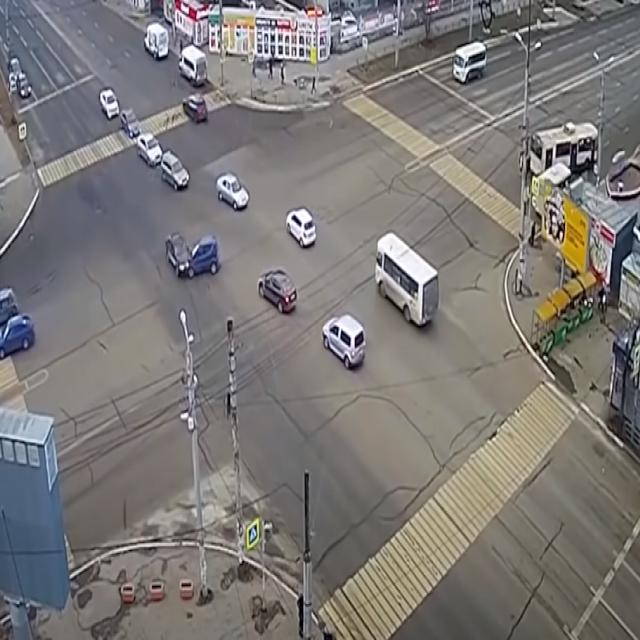accident: (163, 226, 226, 287)
